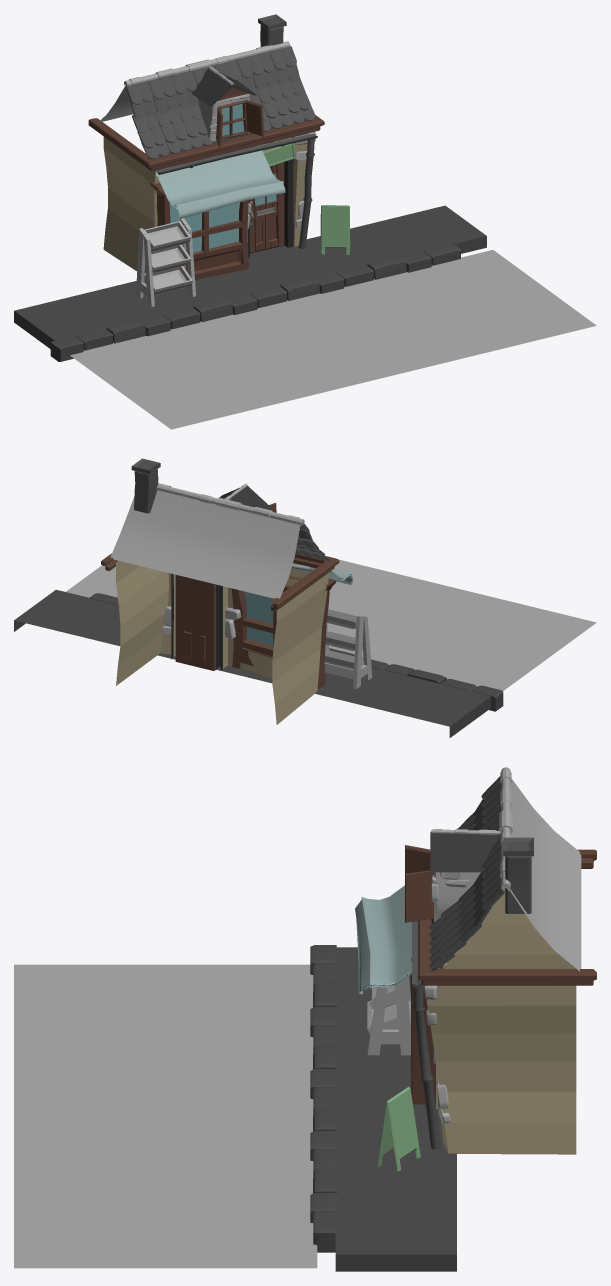
Rendered from housefront.fbx.
3 views of the same model, one above another, from view 1: azimuth 30°, elevation 25°; view 2: azimuth 150°, elevation 25°; view 3: azimuth 270°, elevation 25° (orthographic). The views are drawn at different scales.
Visible parts, largest first — view 1: pPlane3, Pavement, Wall, Parasole, VegBox, Rooftrim, Door_Door, polySurface2, SpecialsBoard, Rooftop, pCube17, pCylinder4 (+18 smaller); view 2: pPlane3, pPlane2, Wall, Pavement, Door_Door, VegBox, Rooftrim, Chimley, Rooftop, polySurface1, polySurface2, Doorframe (+4 smaller); view 3: pPlane3, Wall, Pavement, pPlane2, Parasole, Rooftrim, VegBox, pCube17, SpecialsBoard, Chimley, Windowdoors, Gutter (+4 smaller).
Part boxes in pixels (x1,y1,x2,y2): pPlane3: (70,250,596,429); Pavement: (14,205,486,348); Wall: (103,132,314,273); Parasole: (155,150,285,219); VegBox: (136,218,195,306); Rooftrim: (88,115,324,171); Door_Door: (250,162,284,253); polySurface2: (156,193,243,279); SpecialsBoard: (320,205,350,255); Rooftop: (124,41,290,86); pCube17: (191,68,256,106); pCylinder4: (157,133,317,174); pPlane3: (66,559,596,690); pPlane2: (110,490,300,598); Wall: (116,560,328,724); Pavement: (14,589,490,737); Door_Door: (175,575,215,670); VegBox: (324,609,372,688); Rooftrim: (101,553,339,611); Chimley: (131,458,160,513); Rooftop: (156,483,304,525); polySurface1: (231,585,290,668); polySurface2: (239,590,329,689); Doorframe: (171,573,222,670); pPlane3: (14,964,317,1268); Wall: (426,889,576,1154); Pavement: (335,947,456,1271); pPlane2: (509,779,581,971); Parasole: (355,885,411,994); Rooftrim: (418,849,596,985); VegBox: (367,976,410,1055); pCube17: (430,831,499,872); SpecialsBoard: (377,1086,420,1171); Chimley: (503,837,533,913); Windowdoors: (405,845,433,922); Gutter: (412,985,440,1149).
Bounding box in the file's own units: 2613 × 1267 × 2073.
